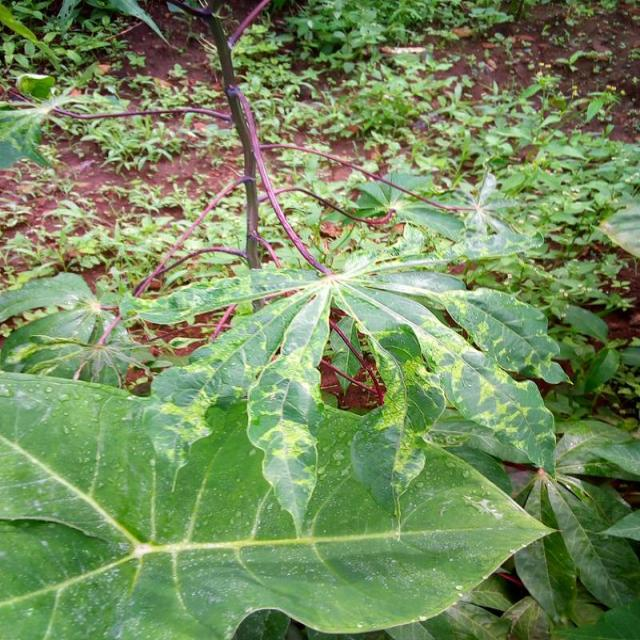cassava leaf: (0, 285, 560, 638)
